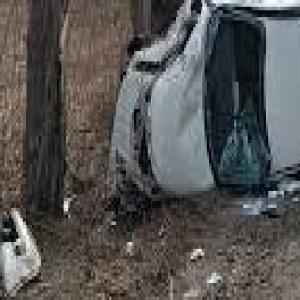fatal: (100, 0, 300, 211)
